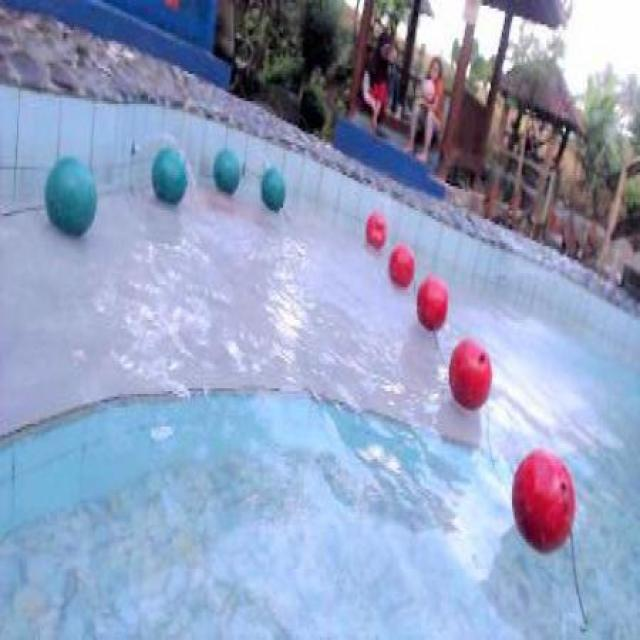buoy: (511, 448, 576, 552), (45, 156, 97, 238), (447, 340, 492, 410), (151, 146, 187, 204), (415, 273, 447, 329), (211, 146, 241, 192), (386, 243, 413, 287), (260, 166, 284, 211), (365, 208, 386, 246)
